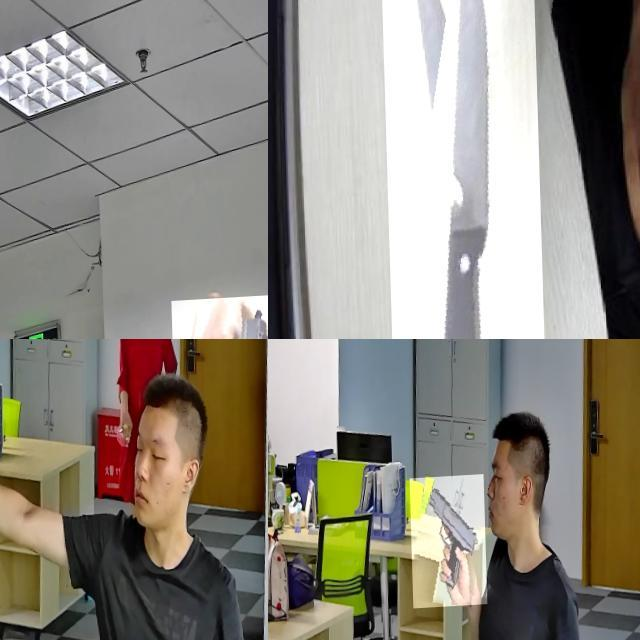-: (381, 0, 546, 339)
gun-knife-thesis - v11 Yolov5 augmented: (408, 478, 485, 612), (0, 339, 29, 468)
